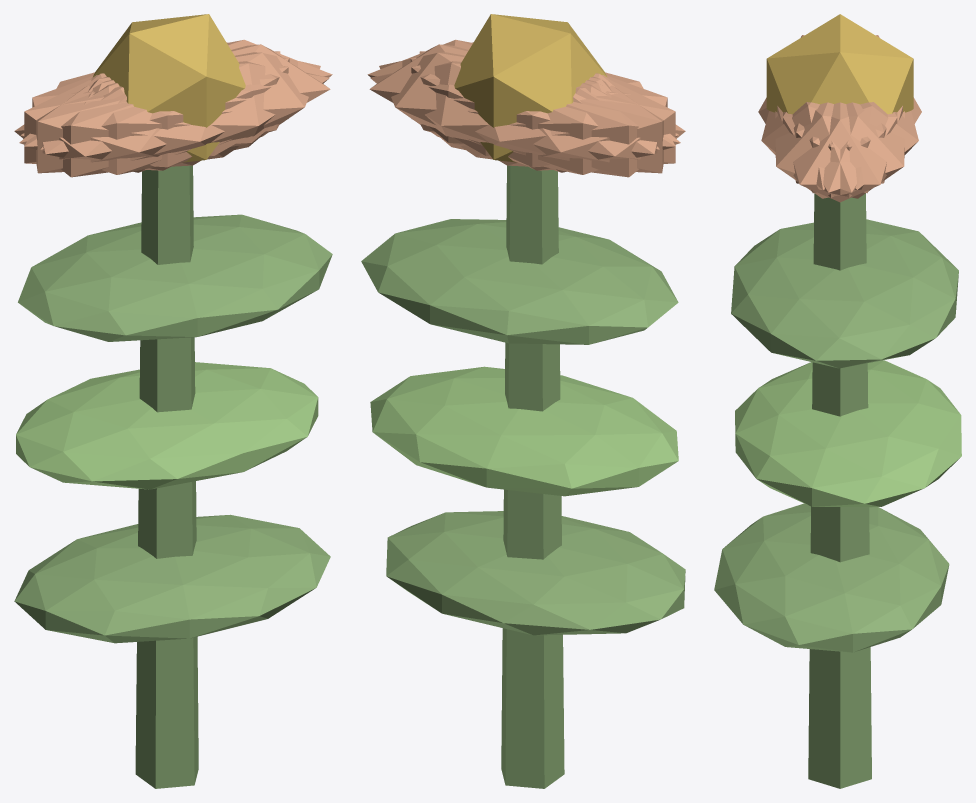
File: tithonia-diversifolia.glb
3 renders of one model, left to right at view 1: azimuth 30°, elevation 25°; view 2: azimuth 150°, elevation 25°; view 3: azimuth 270°, elevation 25°, orthographic.
Parts seen in each view (by area): view 1: leaf0, leaf2, leaf1, stem, center, petal1, petal6, petal2, petal5, petal7, petal0, petal4 (+2 smaller); view 2: leaf1, leaf2, leaf0, stem, center, petal8, petal3, petal7, petal4, petal2, petal0, petal5 (+2 smaller); view 3: leaf2, leaf1, leaf0, stem, center, petal0, petal4, petal5, petal8, petal1.
Part boxes in pixels (x1,y1,x2,y2): leaf0: [14, 514, 330, 643]; leaf2: [18, 214, 332, 341]; leaf1: [16, 362, 318, 489]; stem: [135, 165, 198, 788]; center: [92, 14, 245, 162]; petal1: [19, 61, 329, 174]; petal6: [14, 75, 238, 177]; petal2: [36, 51, 280, 173]; petal5: [40, 52, 320, 167]; petal7: [24, 57, 289, 170]; petal0: [92, 44, 330, 156]; petal4: [20, 39, 332, 146]; leaf1: [370, 366, 678, 496]; leaf2: [361, 219, 678, 344]; leaf0: [386, 511, 685, 635]; stem: [501, 165, 564, 788]; center: [454, 14, 607, 162]; petal8: [370, 61, 680, 174]; petal3: [461, 75, 685, 177]; petal7: [419, 51, 663, 173]; petal4: [379, 52, 659, 167]; petal2: [410, 57, 675, 170]; petal0: [369, 44, 607, 156]; petal5: [367, 39, 679, 146]; leaf2: [731, 219, 958, 368]; leaf1: [735, 360, 961, 506]; leaf0: [714, 503, 949, 652]; stem: [808, 193, 871, 788]; center: [766, 14, 913, 114]; petal0: [777, 102, 902, 202]; petal4: [783, 102, 904, 198]; petal5: [775, 102, 897, 198]; petal8: [793, 102, 918, 189]; petal1: [761, 102, 886, 189].
Size of the model in its own units: 0.1452 by 0.3417 by 0.1034.
